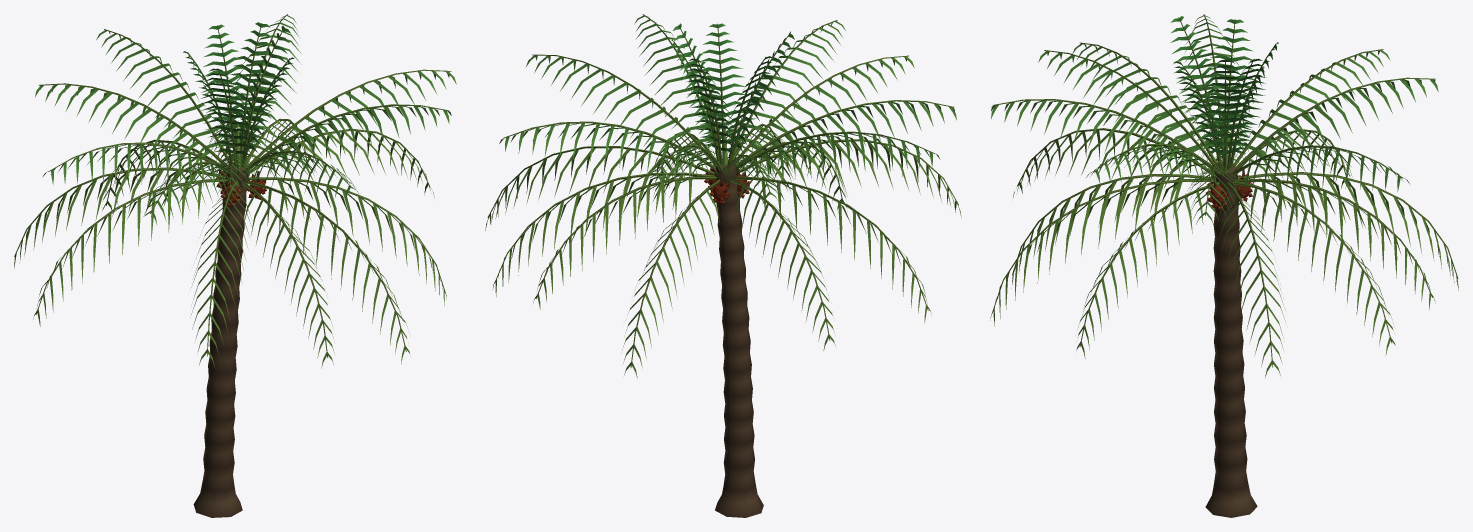
The model's file is sawit_pohon.glb.
The picture shows the model from 3 angles, left to right: view 1: azimuth 30°, elevation 25°; view 2: azimuth 150°, elevation 25°; view 3: azimuth 270°, elevation 25°; orthographic projection. The views are drawn at different scales.
Parts seen in each view (by area): view 1: sawit_pohon; view 2: sawit_pohon; view 3: sawit_pohon.
Part boxes in pixels (bbox=[...]): sawit_pohon: bbox=[14, 14, 456, 517]; sawit_pohon: bbox=[485, 14, 961, 517]; sawit_pohon: bbox=[990, 14, 1458, 517].
Bounding box in the file's own units: 8.56 × 9.11 × 8.06.
